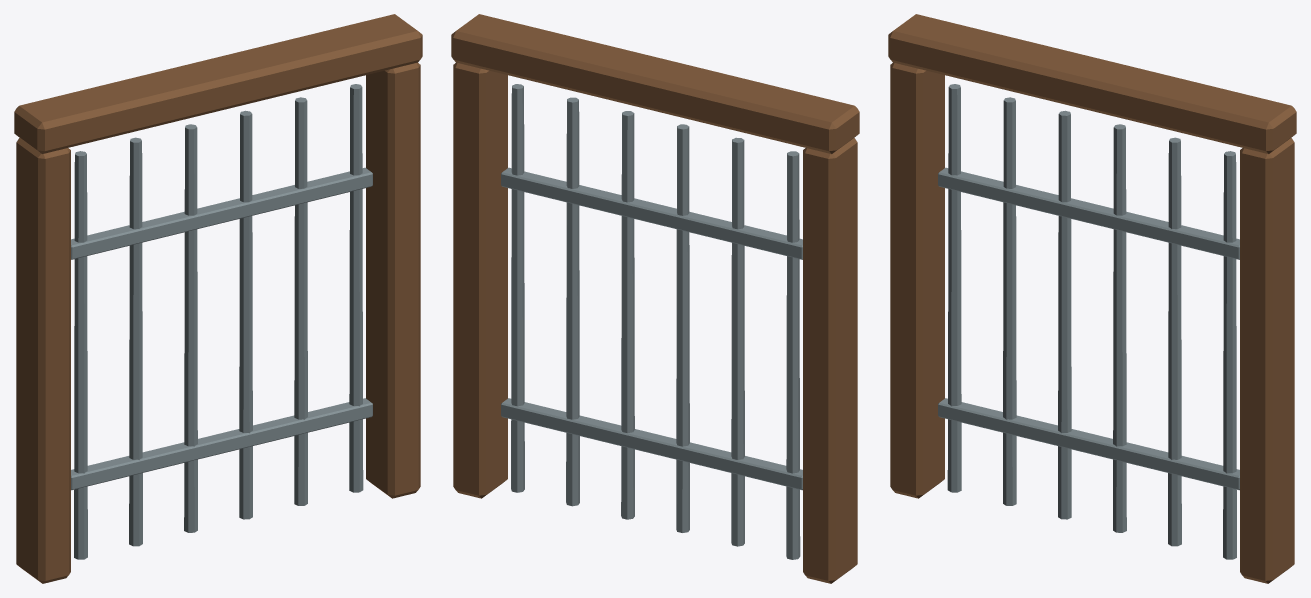
The model's file is CC_BarredDoor.fbx.
3 views of the same model, side by side, from view 1: azimuth 30°, elevation 25°; view 2: azimuth 150°, elevation 25°; view 3: azimuth 330°, elevation 25° (orthographic).
Visible parts, largest first — view 1: Frame post.006, Frame post.007, Lintel.004, Cross bar.001, Cross bar, Bar, Bar.001, Bar.002, Bar.003, Bar.004, Bar.005; view 2: Frame post.006, Frame post.007, Lintel.004, Cross bar.001, Cross bar, Bar.004, Bar.005, Bar.003, Bar.002, Bar, Bar.001; view 3: Frame post.007, Frame post.006, Lintel.004, Cross bar.001, Cross bar, Bar.005, Bar.004, Bar.003, Bar.002, Bar.001, Bar.
Part boxes in pixels (left/top/right/bottom): Frame post.006: left=16, top=138, right=70, bottom=583; Frame post.007: left=366, top=62, right=420, bottom=498; Lintel.004: left=14, top=14, right=422, bottom=153; Cross bar.001: left=71, top=167, right=372, bottom=259; Cross bar: left=71, top=398, right=372, bottom=490; Bar: left=74, top=151, right=87, bottom=559; Bar.001: left=129, top=137, right=142, bottom=546; Bar.002: left=184, top=124, right=197, bottom=532; Bar.003: left=239, top=110, right=252, bottom=519; Bar.004: left=294, top=97, right=307, bottom=505; Bar.005: left=349, top=84, right=363, bottom=492; Frame post.006: left=803, top=138, right=857, bottom=583; Frame post.007: left=453, top=62, right=507, bottom=498; Lintel.004: left=451, top=14, right=859, bottom=153; Cross bar.001: left=501, top=167, right=802, bottom=259; Cross bar: left=501, top=398, right=802, bottom=490; Bar.004: left=566, top=97, right=579, bottom=506; Bar.005: left=511, top=84, right=524, bottom=492; Bar.003: left=621, top=111, right=634, bottom=519; Bar.002: left=676, top=124, right=689, bottom=532; Bar: left=786, top=151, right=800, bottom=559; Bar.001: left=731, top=137, right=744, bottom=546; Frame post.007: left=1240, top=138, right=1294, bottom=583; Frame post.006: left=890, top=62, right=944, bottom=498; Lintel.004: left=888, top=14, right=1296, bottom=153; Cross bar.001: left=938, top=167, right=1239, bottom=259; Cross bar: left=938, top=398, right=1239, bottom=490; Bar.005: left=1223, top=151, right=1236, bottom=559; Bar.004: left=1168, top=137, right=1181, bottom=546; Bar.003: left=1113, top=124, right=1126, bottom=532; Bar.002: left=1058, top=110, right=1071, bottom=519; Bar.001: left=1003, top=97, right=1016, bottom=505; Bar: left=947, top=84, right=961, bottom=492.
Bounding box in the file's own units: 2.8 × 3.21 × 0.36.
